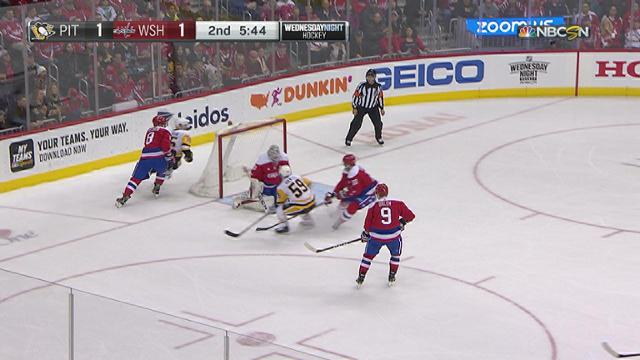geico: (370, 59, 492, 96)
